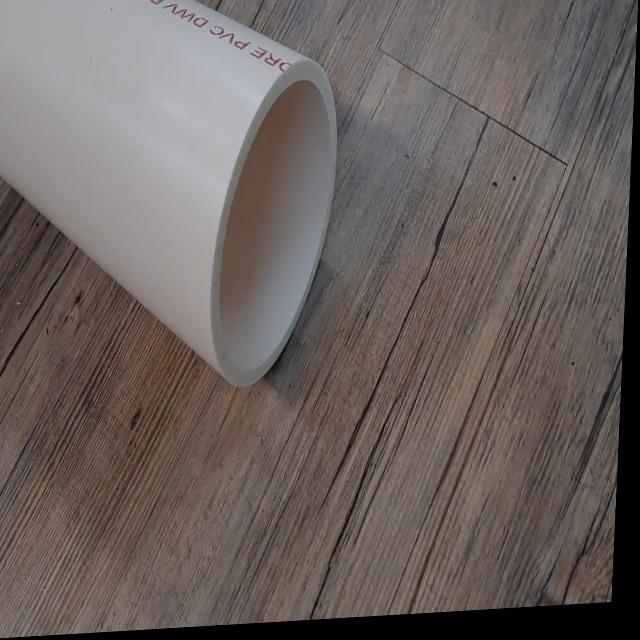CORAL: (0, 0, 350, 410)
